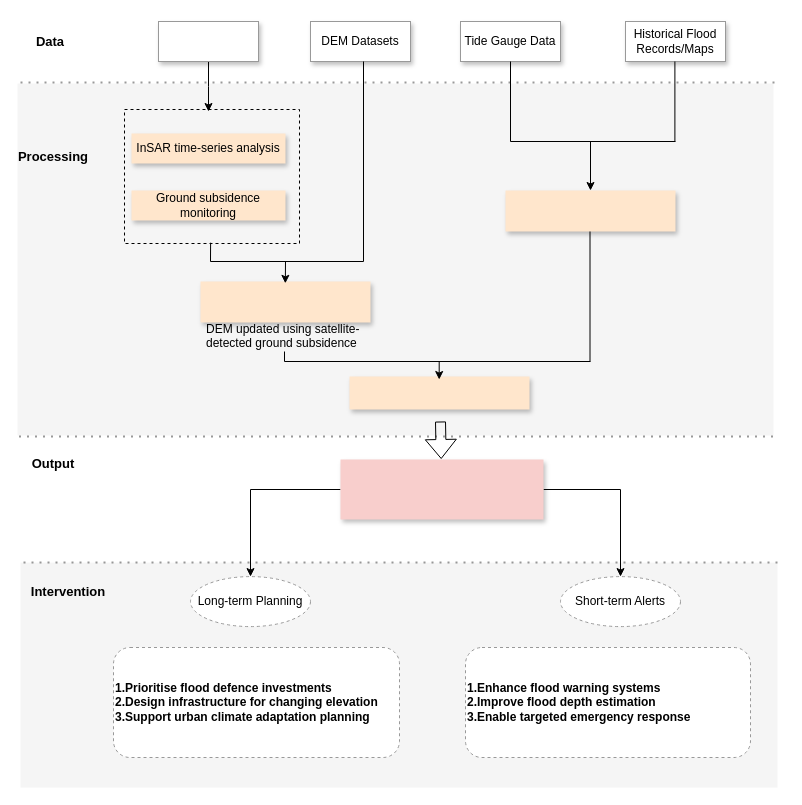
The diagram is 802 pixels wide and 805 high, and some of its shapes have lost their labels. Each missing label, with the centre of its shape:
"Dynamic Flood Risk Assessment" belongs at point 440,394.
"Dynamic Flood Risk Dashboard" belongs at point 442,490.
"Flood Hazard Map" belongs at point 591,212.
"Sentinel-1 SAR" belongs at point 209,42.
"Subsidence-adjusted elevation model" belongs at point 286,303.
